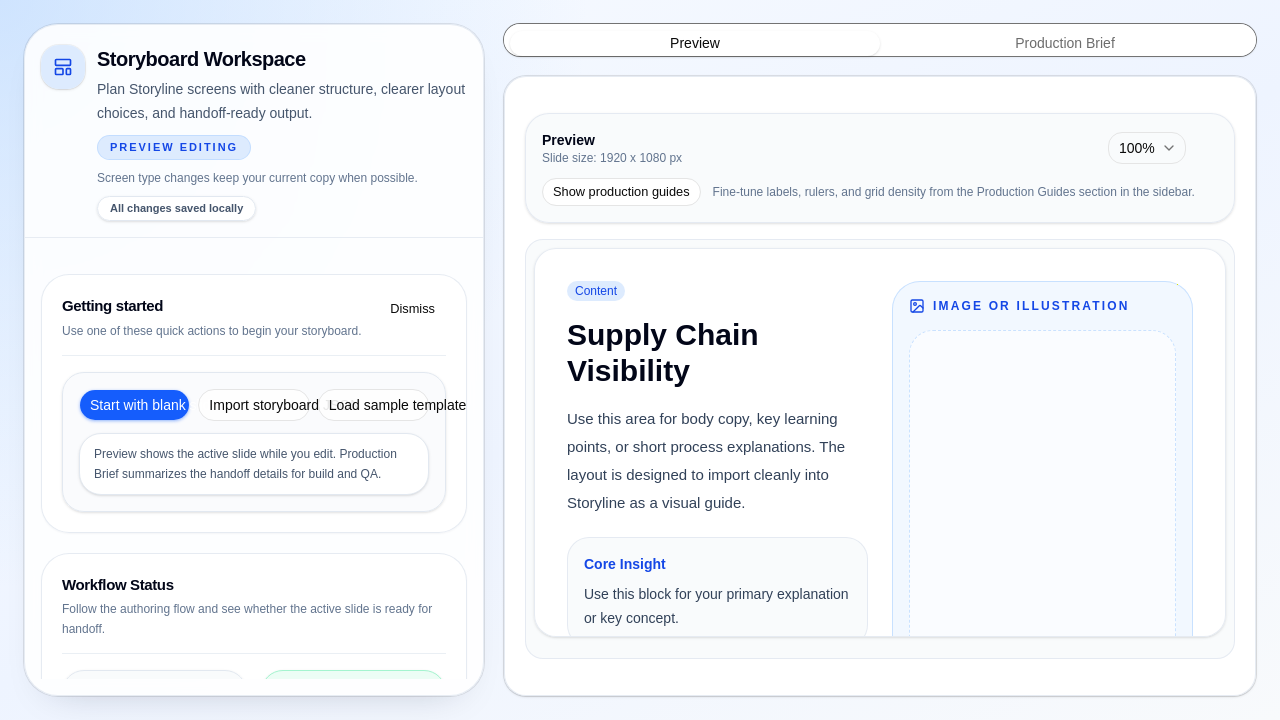
StorylineLayoutGenerator › loads the sample storyboard from onboarding
Click the button "Load sample template".
click(373, 405)  # box [318, 389, 429, 421]
(page scrolled)
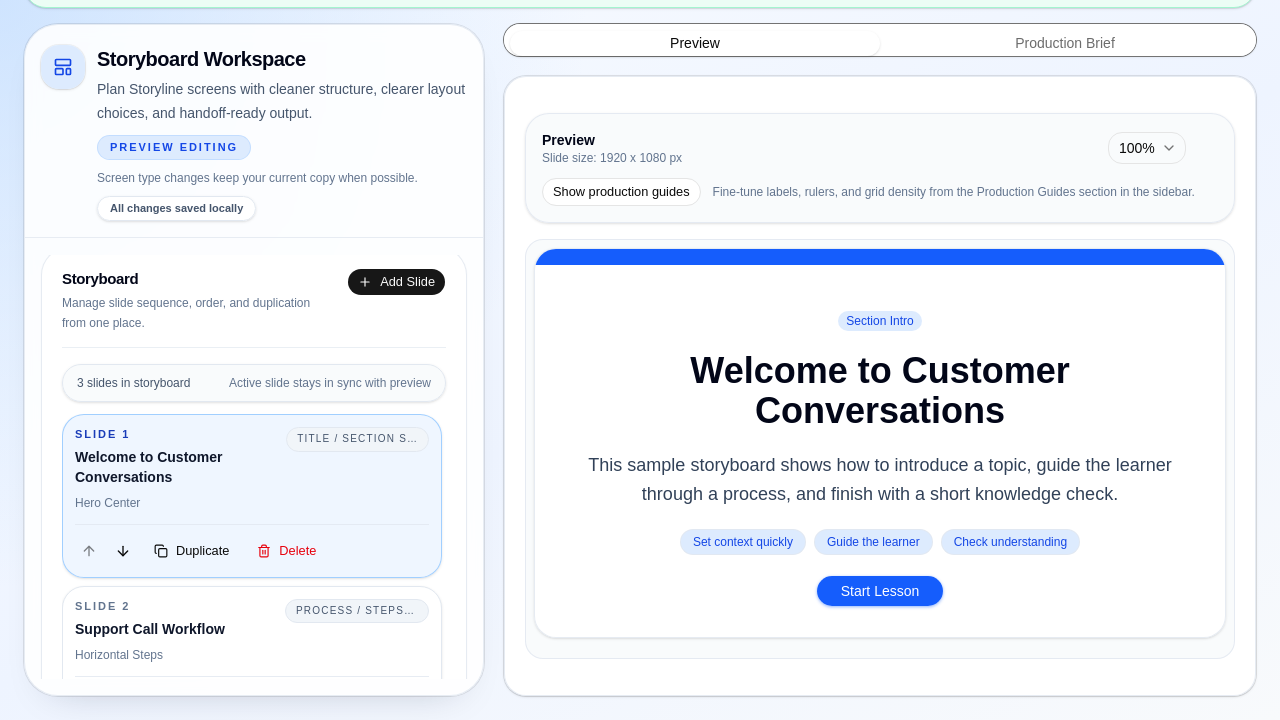
expect the text "3 slides in storyboard" is shown: met, box [77, 375, 190, 391]
expect the text "Welcome to Customer Conversations" is shown: met, box [75, 449, 222, 485]
